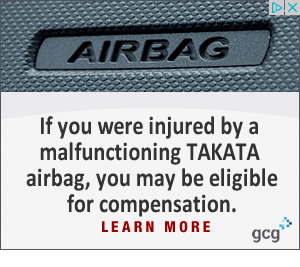fake_button: (258, 0, 300, 17)
